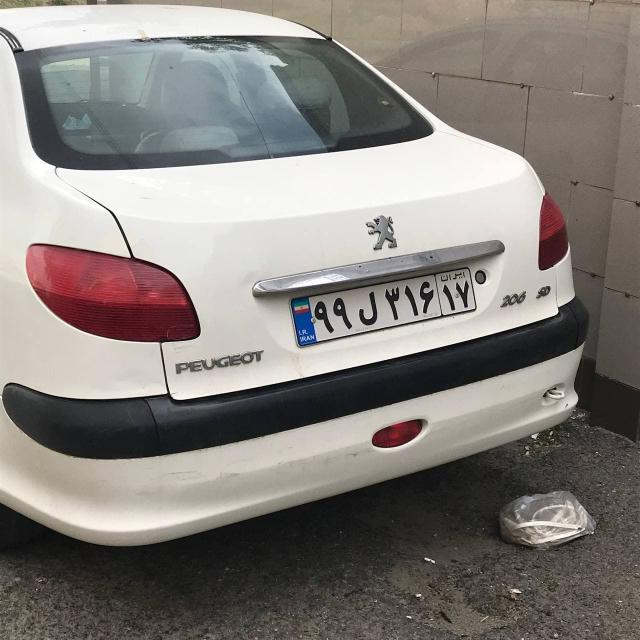Plates: (290, 267, 476, 346)
